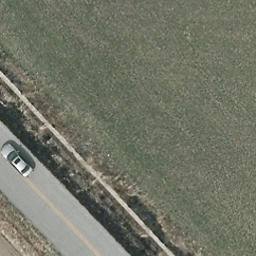car: (0, 141, 34, 179)
